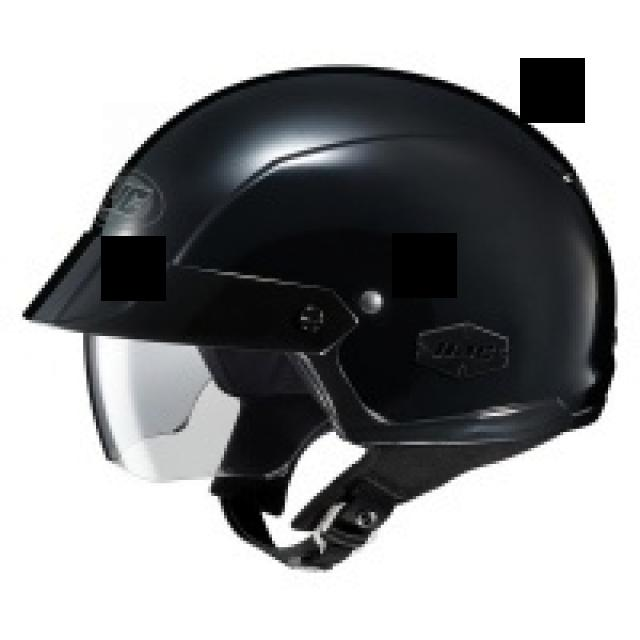Helmet: (25, 68, 614, 567)
